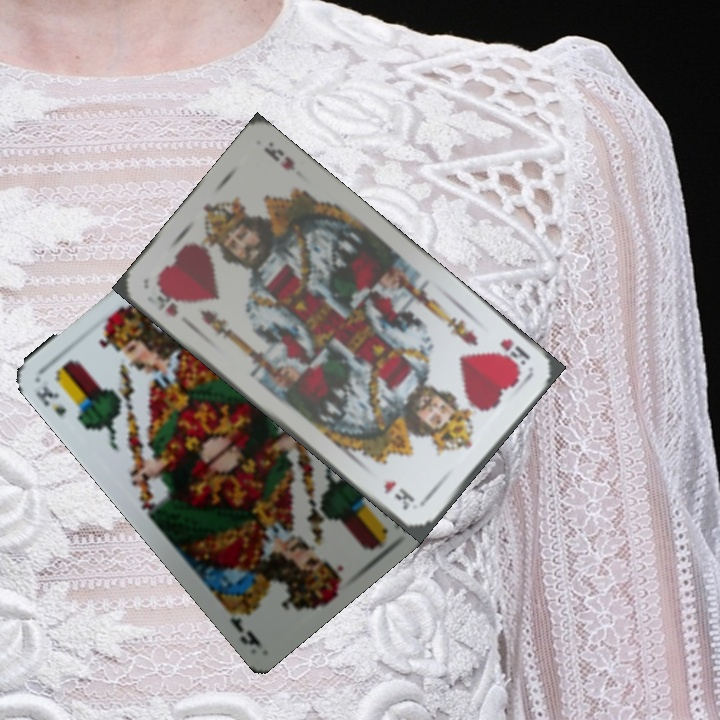EK: (31, 382, 69, 419)
HK: (493, 334, 534, 376), (150, 279, 181, 320)
